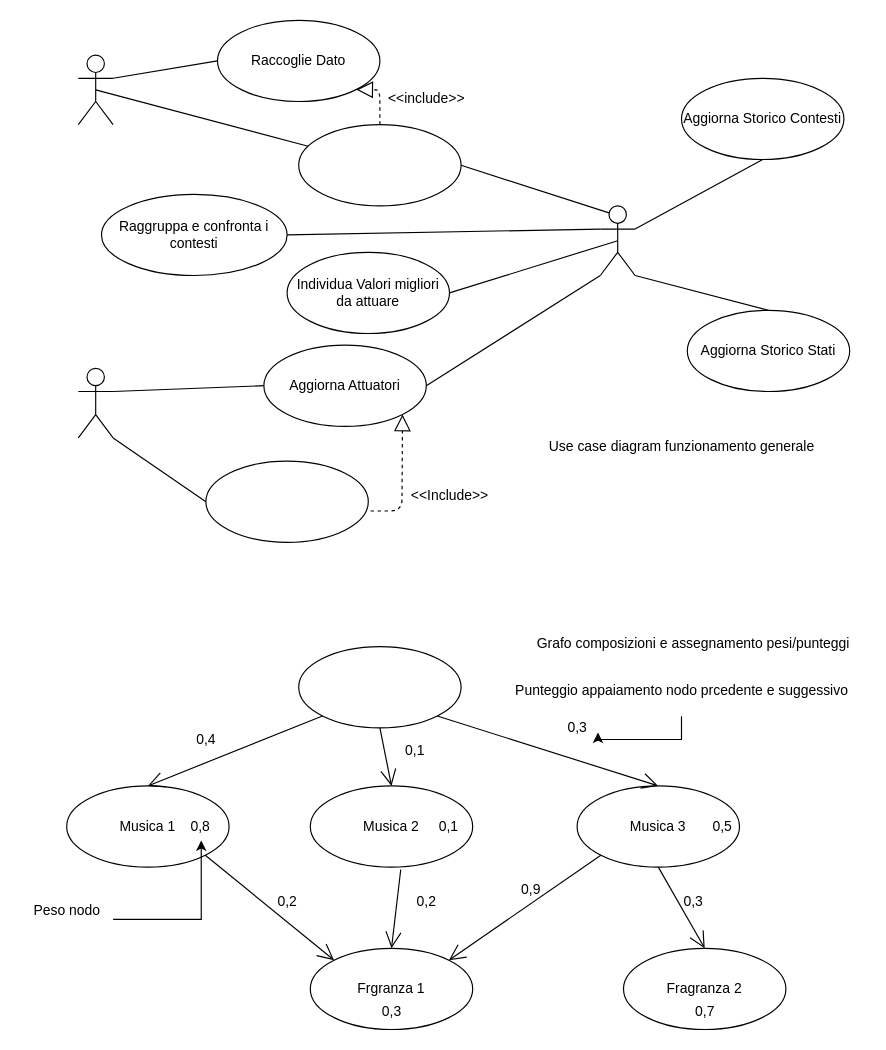
Some shapes in this 886 by 1050 pixel diagram are drawn without their labels. Each missing label, with the centre of its shape:
"Aggiorna Contesto" belongs at pixel 379 165.
"Ambiente" belongs at pixel 379 687.
"Attua valori indicati" belongs at pixel 286 501.
"Attuatore" belongs at pixel 95 402.
"Sensore" belongs at pixel 95 89.
"Sistema" belongs at pixel 617 240.
